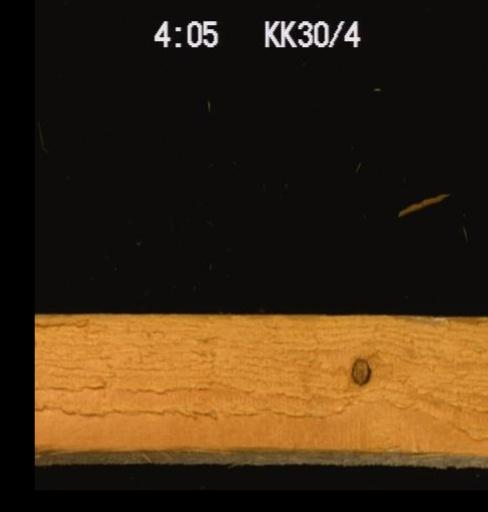dry_knot: (347, 353, 371, 388)
